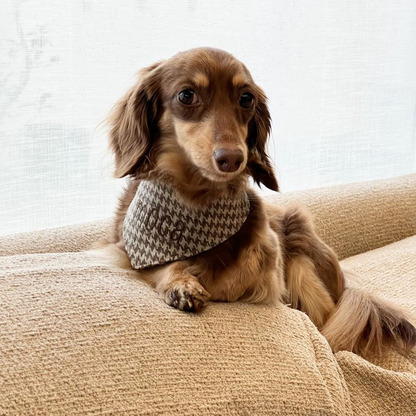dachshund: (109, 48, 372, 360)
